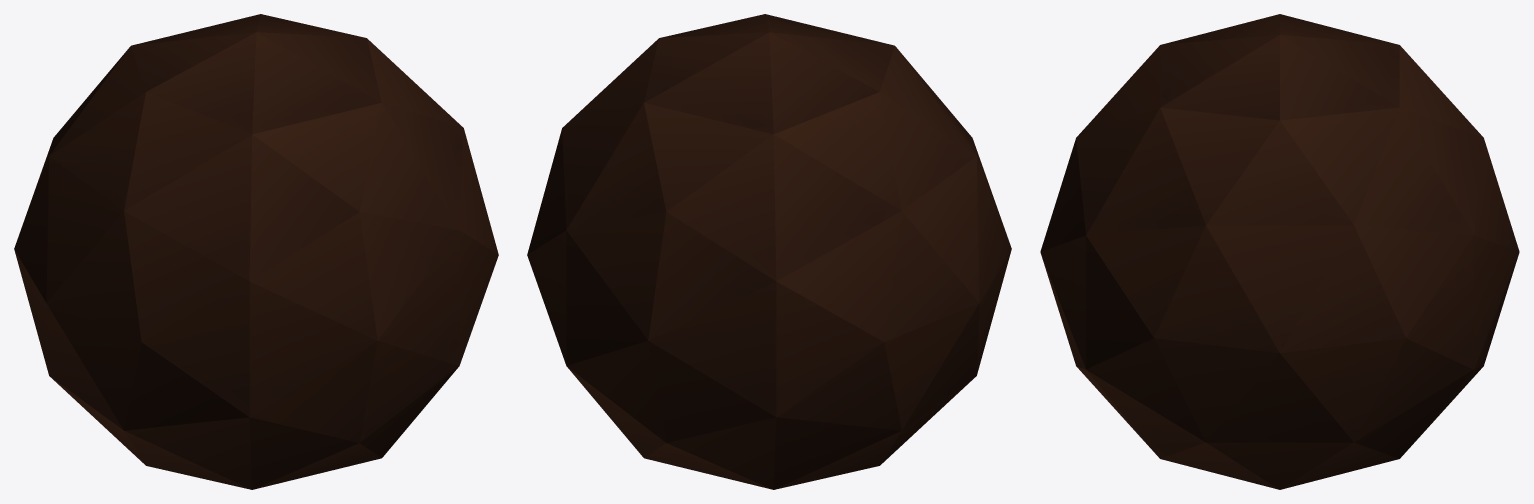
Rendered from Whisper Bubble for redd.fbx.
3 views of the same model, side by side, from view 1: azimuth 30°, elevation 25°; view 2: azimuth 150°, elevation 25°; view 3: azimuth 270°, elevation 25° (orthographic).
Visible parts, largest first — view 1: TheMesh Base, TheMesh Base_selection; view 2: TheMesh Base, TheMesh Base_selection; view 3: TheMesh Base.
Part boxes in pixels (<box>): TheMesh Base: <box>14,14,498,489</box>; TheMesh Base_selection: <box>49,92,145,210</box>; TheMesh Base: <box>527,14,1011,489</box>; TheMesh Base_selection: <box>880,92,976,210</box>; TheMesh Base: <box>1040,14,1519,489</box>.
Bounding box in the file's own units: 200 × 200 × 200.
1 material, 1 textured.
